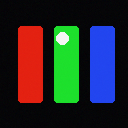2 circle: (56, 32, 68, 44)
